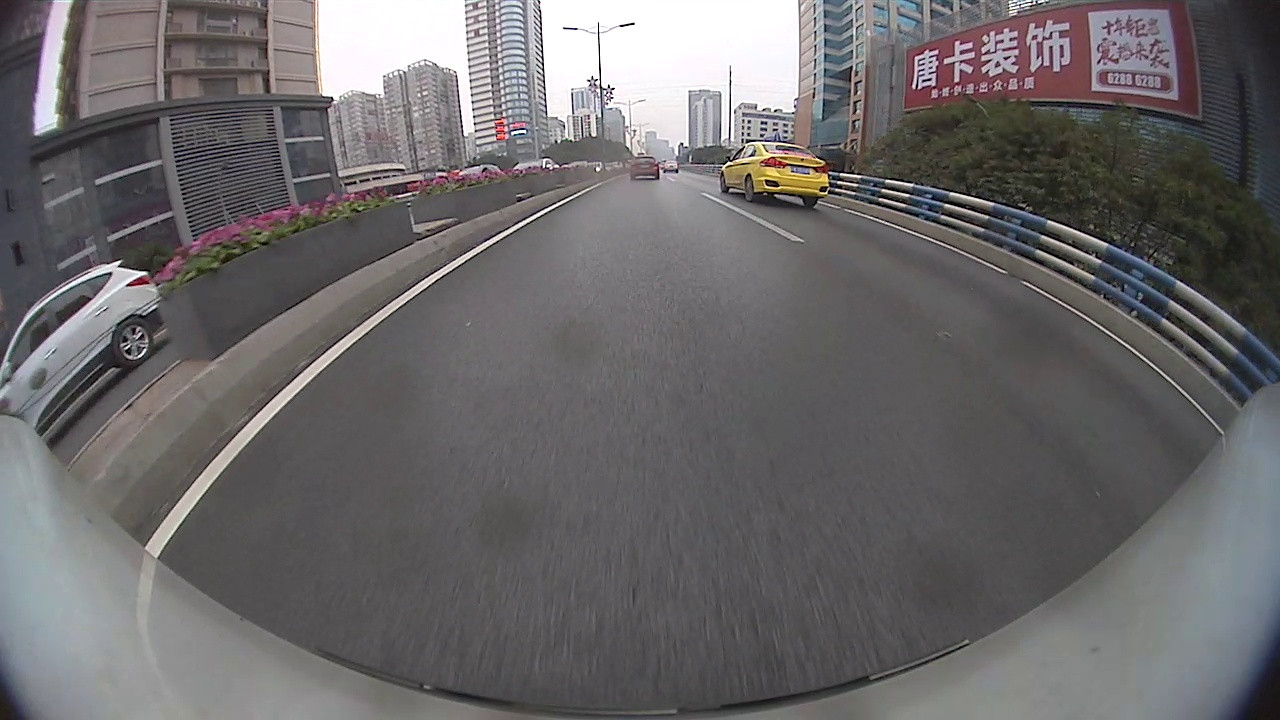car: (1, 255, 165, 450), (719, 128, 833, 211), (510, 155, 561, 177), (628, 153, 661, 182), (458, 161, 507, 180), (662, 158, 681, 175)
front: (719, 174, 727, 192)
rear: (112, 317, 156, 368), (744, 175, 755, 203)
